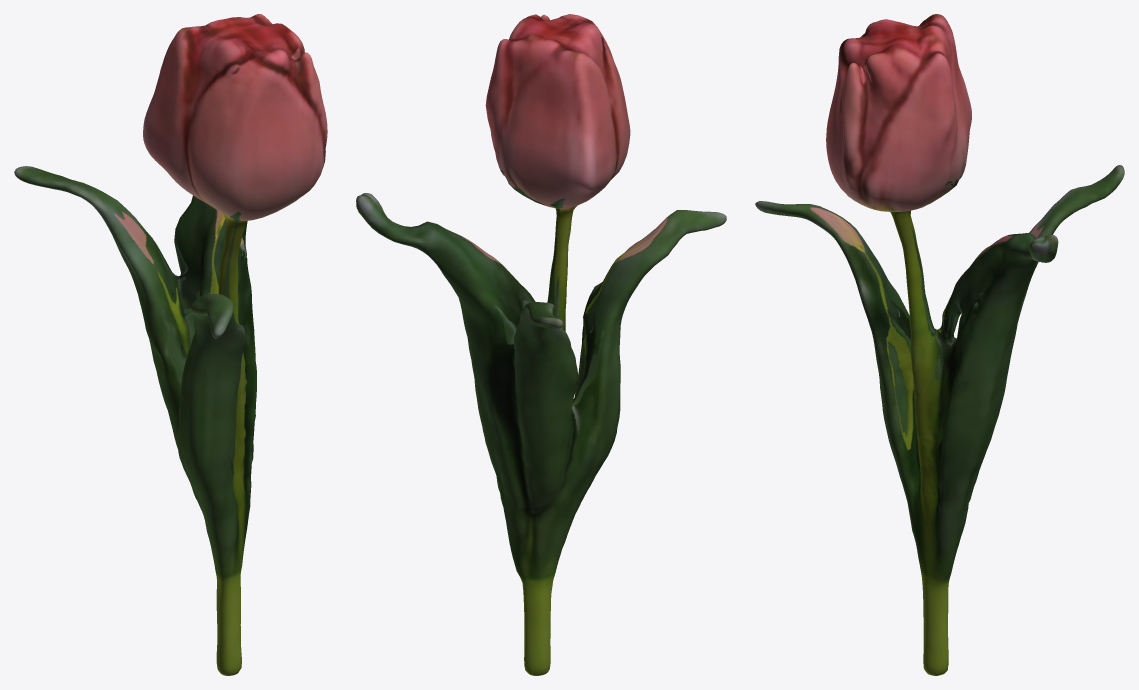
The picture shows the model from 3 angles, left to right: view 1: azimuth 30°, elevation 25°; view 2: azimuth 150°, elevation 25°; view 3: azimuth 270°, elevation 25°; orthographic projection. The views are drawn at different scales.
Visible parts, largest first — view 1: mesh; view 2: mesh; view 3: mesh.
Boxes of the visible parts, <box> form: mesh: <box>14,14,327,675</box>; mesh: <box>356,14,726,675</box>; mesh: <box>755,14,1124,675</box>.
Size of the model in its own units: 0.3971 by 0.9994 by 0.5217.
Materials: 1 (1 with a texture image).
